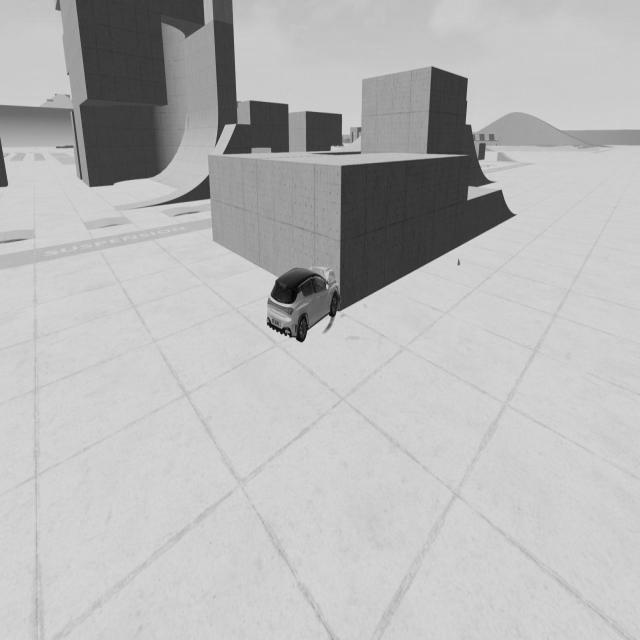accident: (265, 262, 357, 345)
